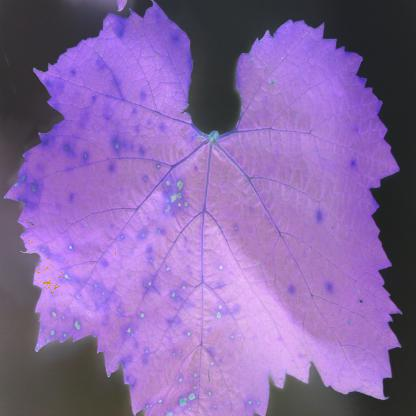grape leaf black rot: (8, 2, 395, 416)
